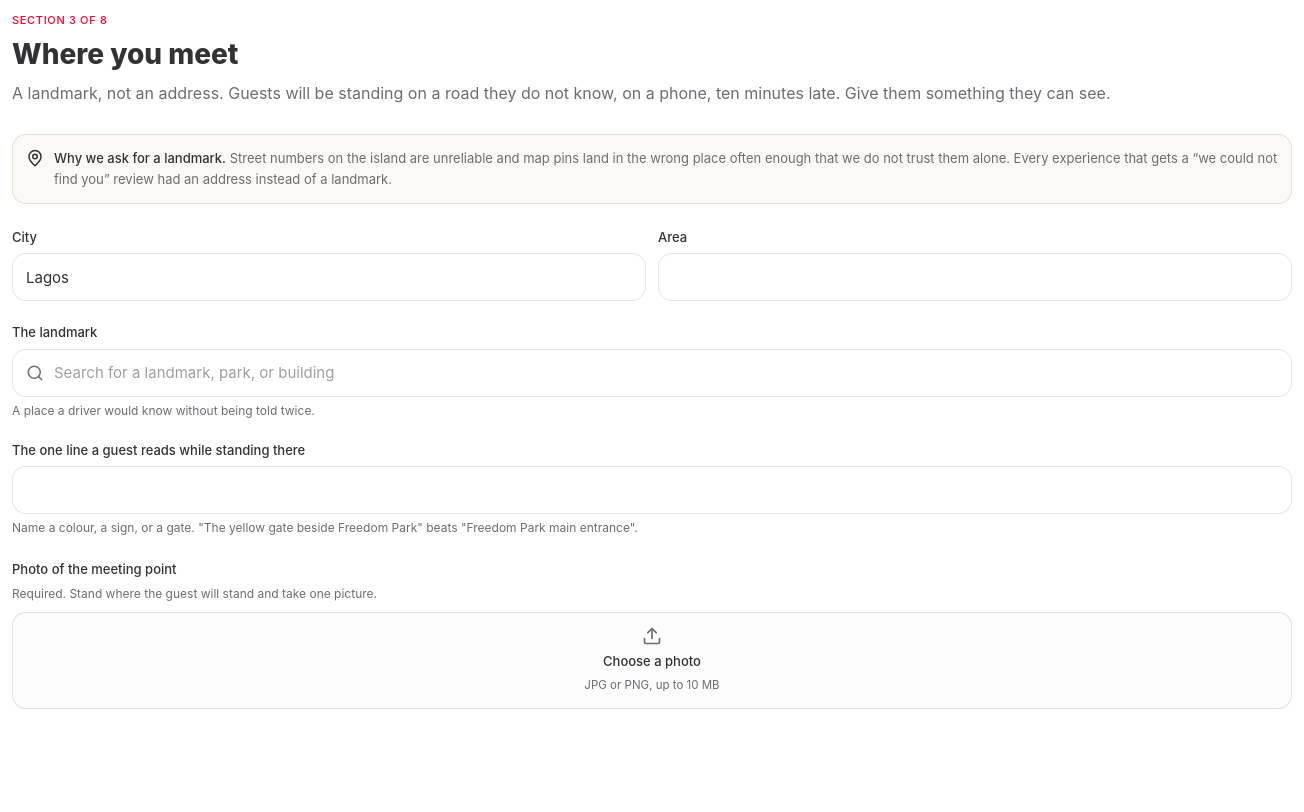
Test: where you meet › offers the typed words when nothing matches
This screenshot has width=1304, height=812.
Type "old fig tree" into the field named "The landmark" at [652, 373], box [12,349,1292,397]
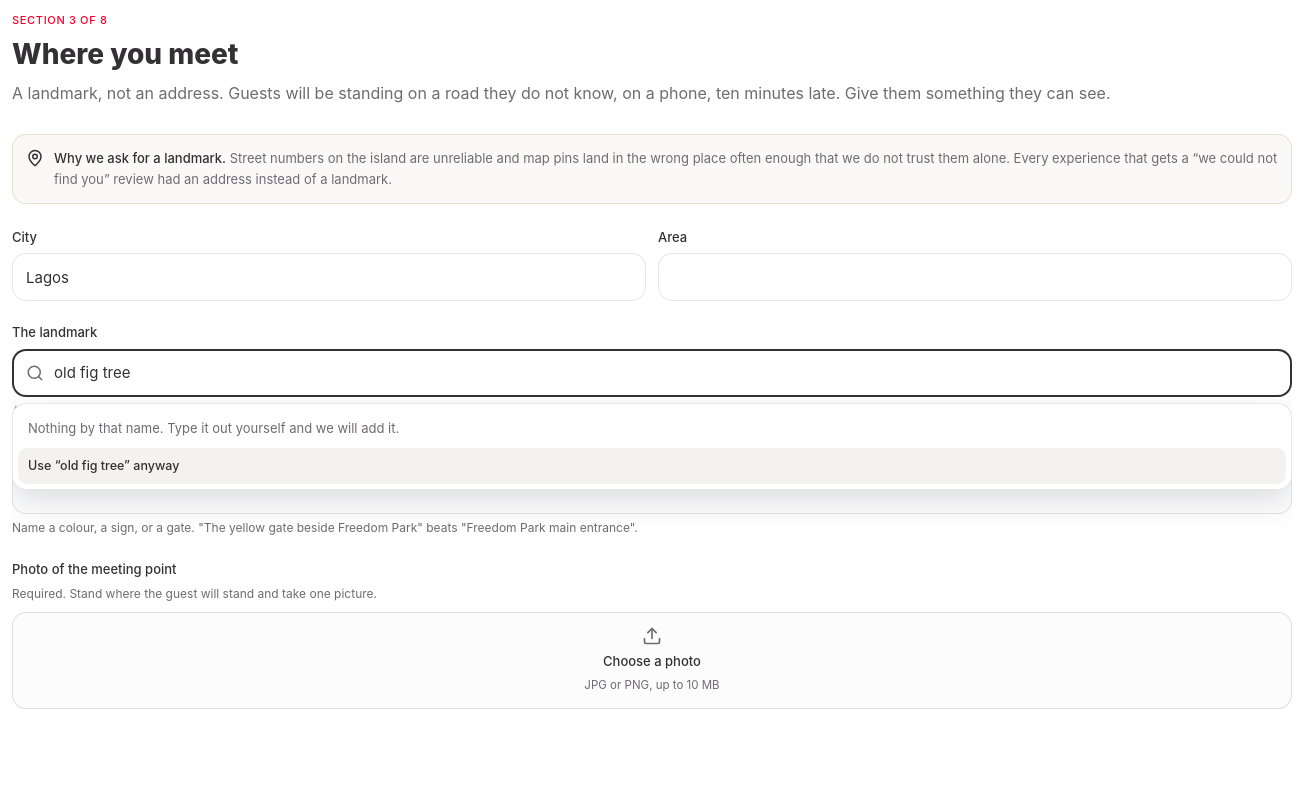
Now the text "Nothing by that name" is shown, box [28,420,399,436]
Click the button "Use “old fig tree” anyway" at [44, 465], box [18,448,1286,484]
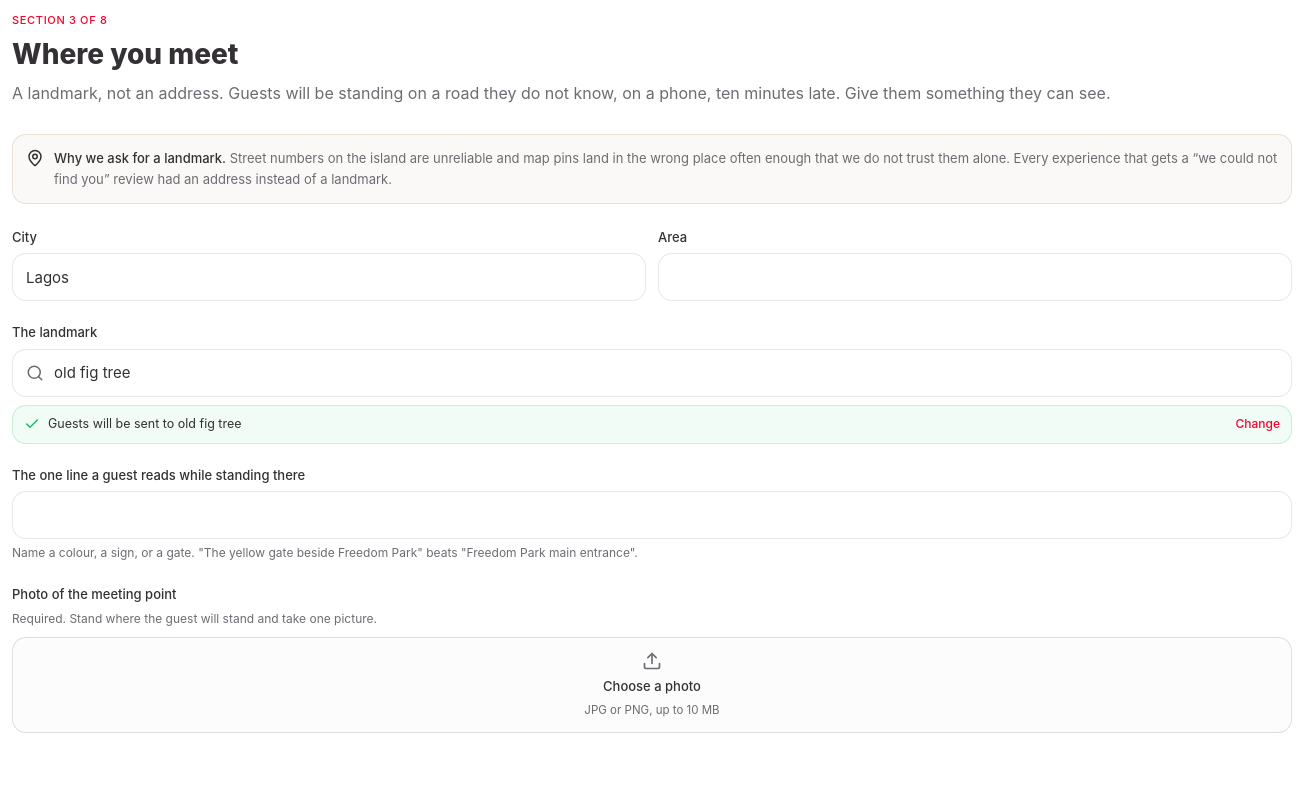
Now the text "Guests will be sent to old fig tree" is shown, box [48,415,242,434]
